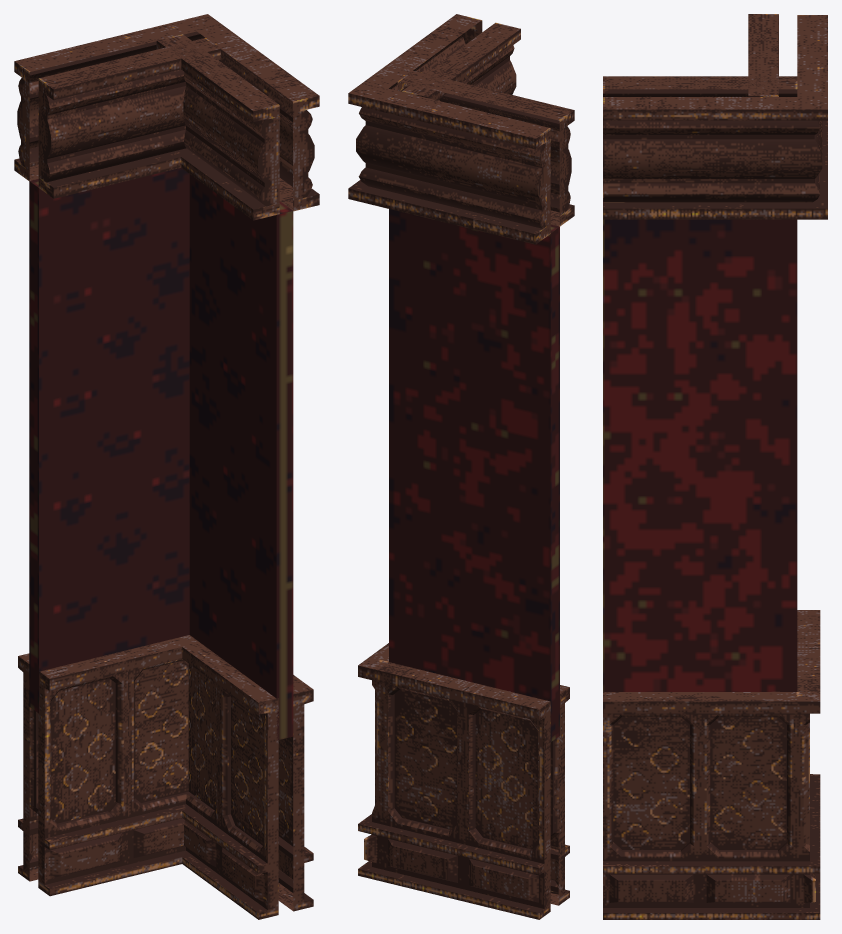
File: wall_corner_combined.fbx
The picture shows the model from 3 angles, left to right: view 1: azimuth 30°, elevation 25°; view 2: azimuth 150°, elevation 25°; view 3: azimuth 270°, elevation 25°; orthographic projection. The views are drawn at different scales.
Parts seen in each view (by area): view 1: wall_corner_combined; view 2: wall_corner_combined; view 3: wall_corner_combined.
Boxes of the visible parts, <box> form: wall_corner_combined: <box>14,14,319,919</box>; wall_corner_combined: <box>348,14,574,919</box>; wall_corner_combined: <box>603,14,827,919</box>.
Bounding box in the file's own units: 116 × 463 × 116.
